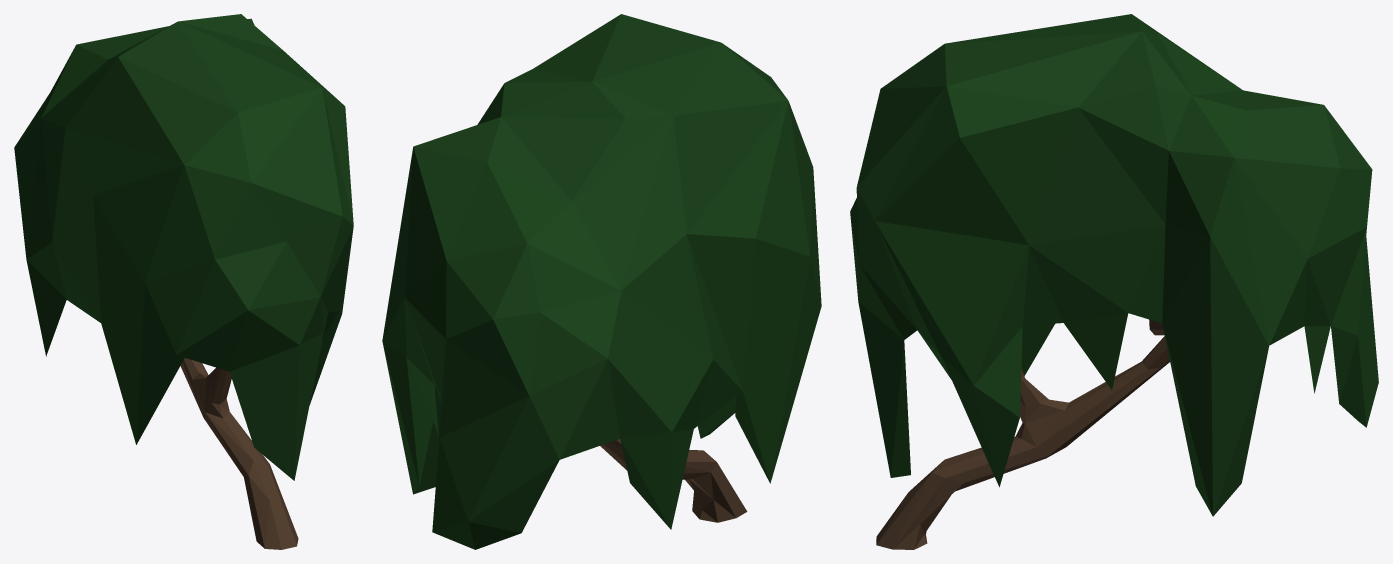
Rendered from tree_giant.glb.
3 renders of one model, left to right at view 1: azimuth 30°, elevation 25°; view 2: azimuth 150°, elevation 25°; view 3: azimuth 270°, elevation 25°, orthographic. The views are drawn at different scales.
Visible parts, largest first — view 1: tree_giant; view 2: tree_giant; view 3: tree_giant.
Boxes of the visible parts, x1,y1,x2,y2 form: tree_giant: [14, 14, 353, 549]; tree_giant: [382, 14, 821, 549]; tree_giant: [850, 14, 1378, 549].
Bounding box in the file's own units: 1.93 × 3.33 × 3.12.
